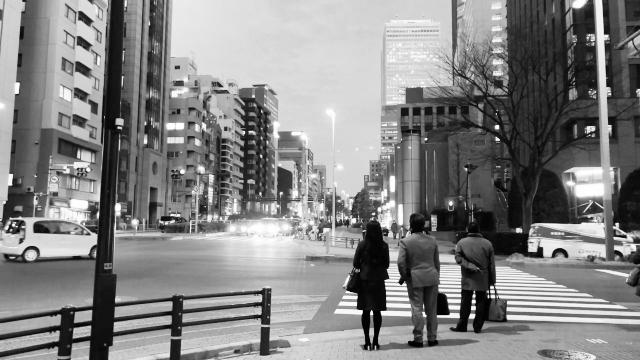berdiri: (396, 209, 444, 347), (342, 214, 390, 352), (452, 222, 502, 334)
